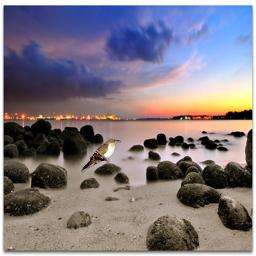Cuckoo: (81, 138, 121, 173)
